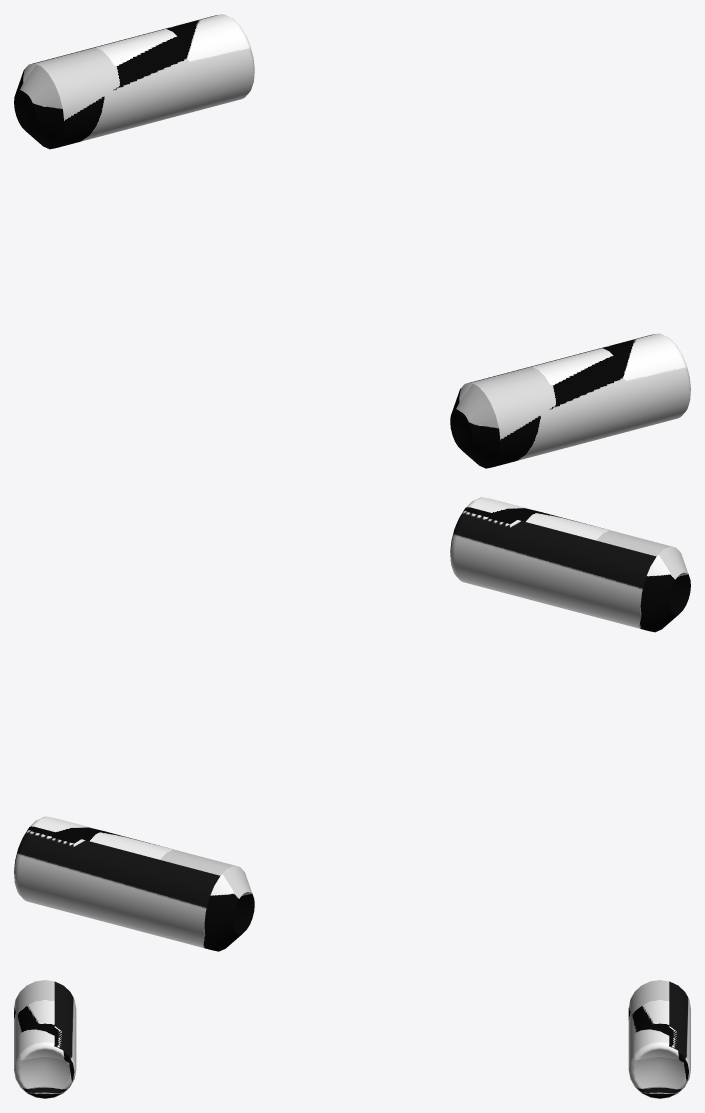
Rendered from turbo.obj.
3 renders of one model, top to bottom at view 1: azimuth 30°, elevation 25°; view 2: azimuth 150°, elevation 25°; view 3: azimuth 270°, elevation 25°, orthographic. The views are drawn at different scales.
Visible parts, largest first — view 1: turbo2_Untitled.001; view 2: turbo2_Untitled.001; view 3: turbo2_Untitled.001.
Part boxes in pixels (bbox=[...]): turbo2_Untitled.001: bbox=[14, 14, 690, 468]; turbo2_Untitled.001: bbox=[14, 497, 690, 951]; turbo2_Untitled.001: bbox=[14, 980, 690, 1098].
Bounding box in the file's own units: 0.1235 × 0.0466 × 0.4846.
